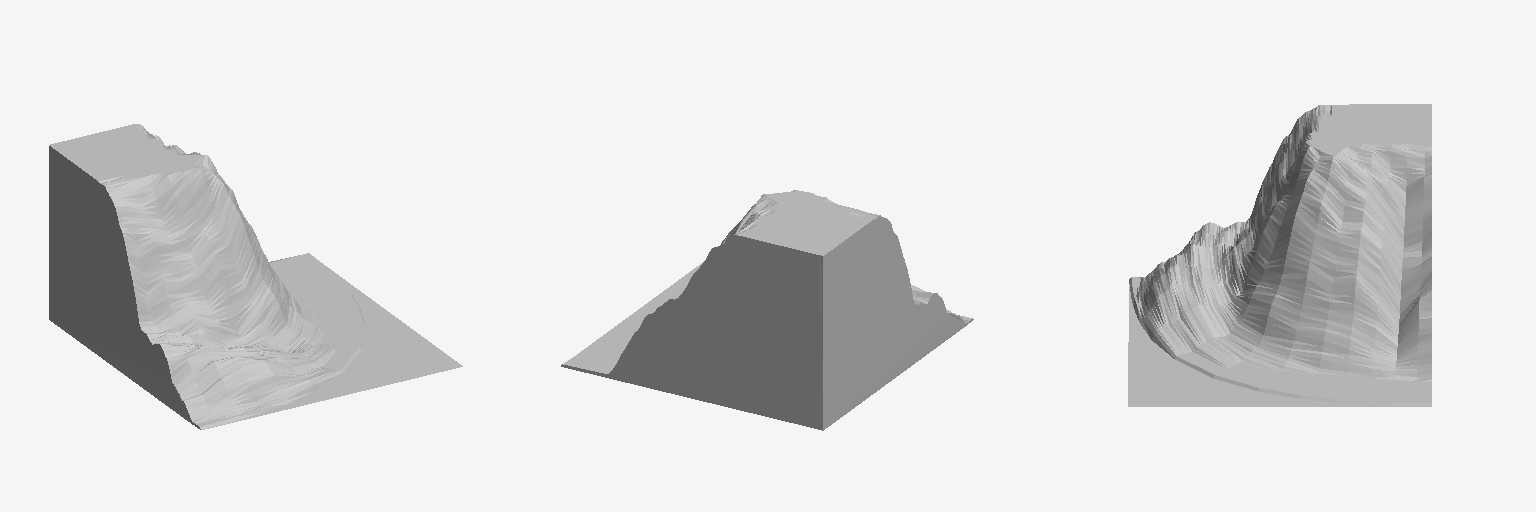
Rendered from F6Clliff.obj.
3 renders of one model, left to right at view 1: azimuth 30°, elevation 25°; view 2: azimuth 150°, elevation 25°; view 3: azimuth 270°, elevation 25°, orthographic.
Visible parts, largest first — view 1: Cliff_Segment_12_Landscape.003; view 2: Cliff_Segment_12_Landscape.003; view 3: Cliff_Segment_12_Landscape.003.
Part boxes in pixels (bbox=[...]): Cliff_Segment_12_Landscape.003: bbox=[49, 124, 462, 429]; Cliff_Segment_12_Landscape.003: bbox=[561, 190, 973, 430]; Cliff_Segment_12_Landscape.003: bbox=[1128, 104, 1431, 406].
Bounding box in the file's own units: 2 × 1.27 × 2.01.